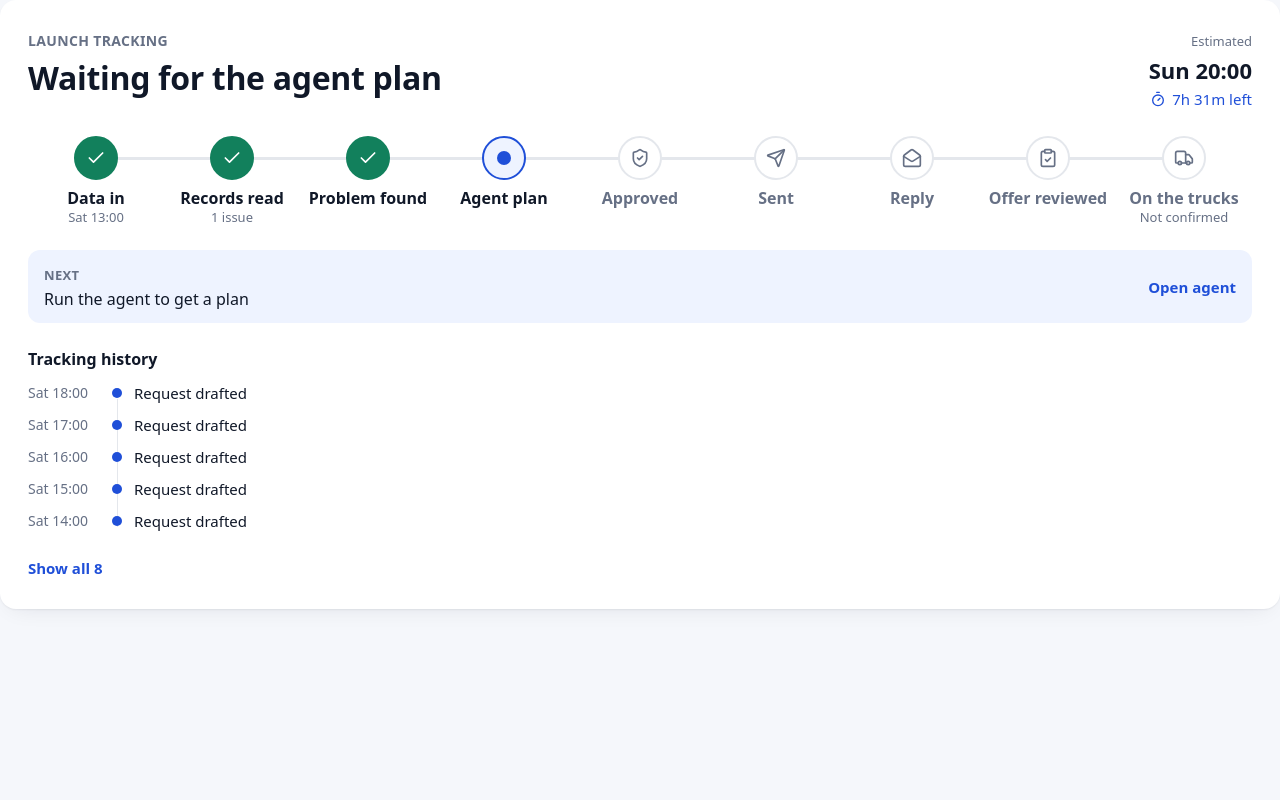
WorkflowTracker › shows the latest 5 and toggles Show all
This screenshot has width=1280, height=800.
What coordinates should you click on to do the following:
click the button "Show all 8"
I would click on:
 (65, 568)
Its box is [28, 555, 102, 581].
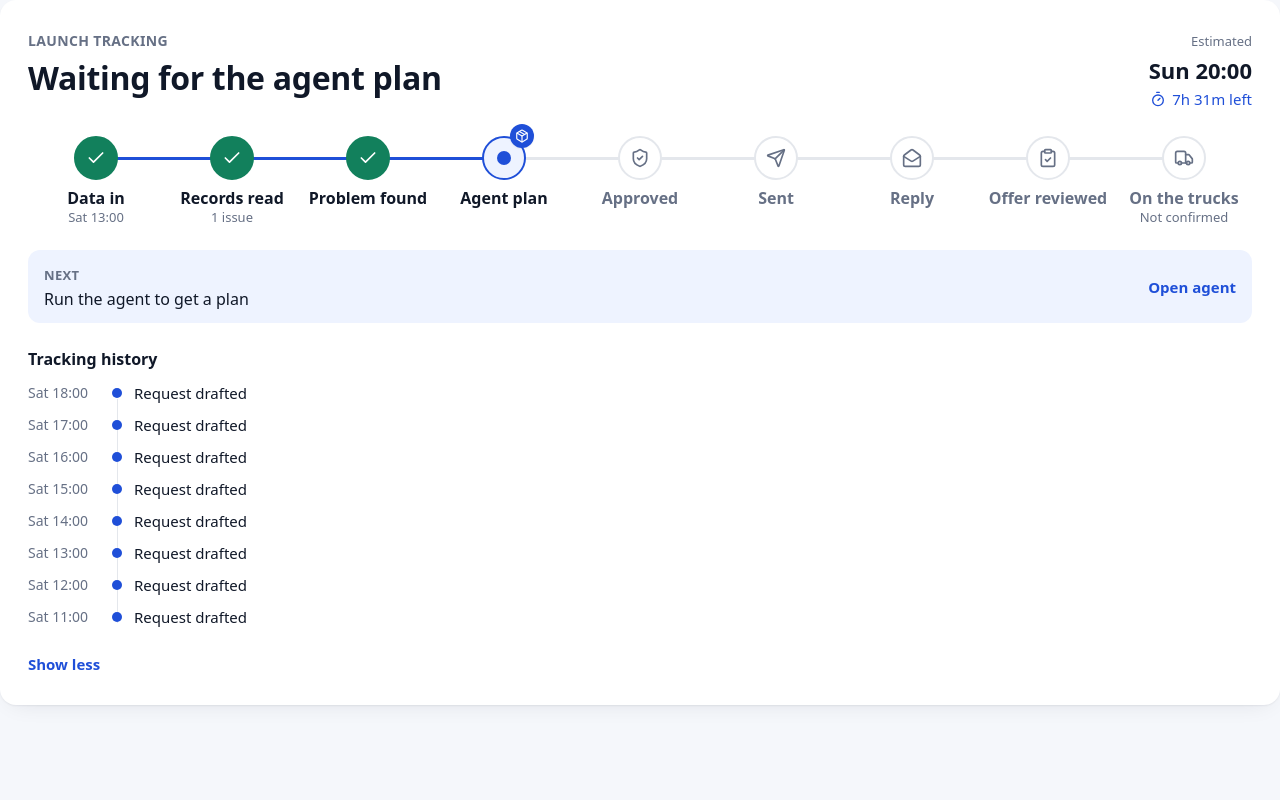
Check: the button "Show less" is expanded, box [28, 651, 100, 677]
